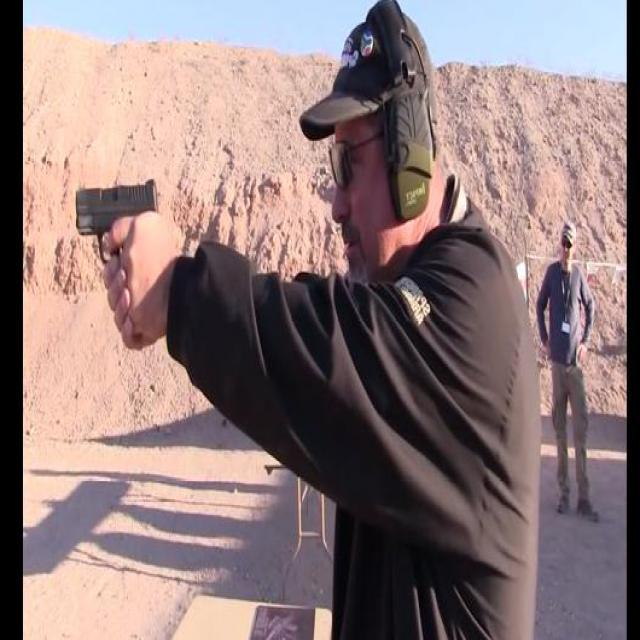Gun: (70, 176, 162, 345)
